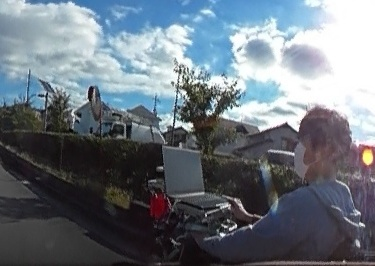person: (200, 106, 358, 257)
